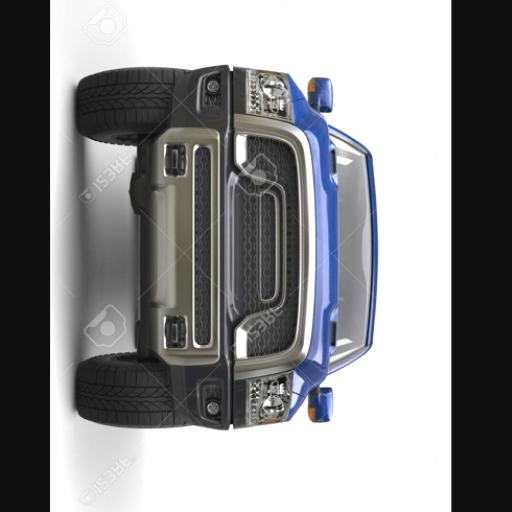car: (102, 328, 104, 331)
truck: (76, 67, 377, 429)
